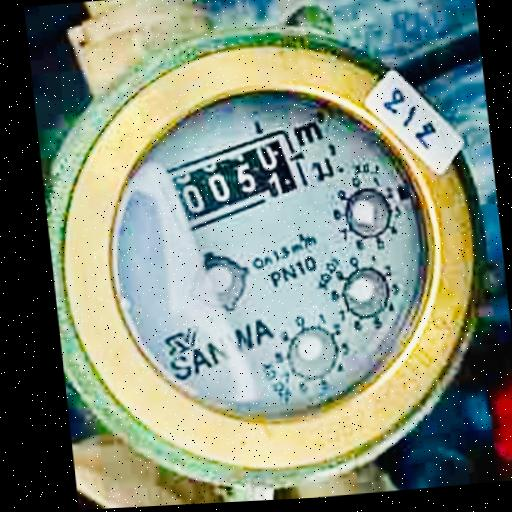0: (250, 137, 298, 198), (194, 156, 242, 211), (169, 168, 214, 222)
5: (223, 146, 268, 200)
border_water_meter_number: (150, 122, 311, 236)
